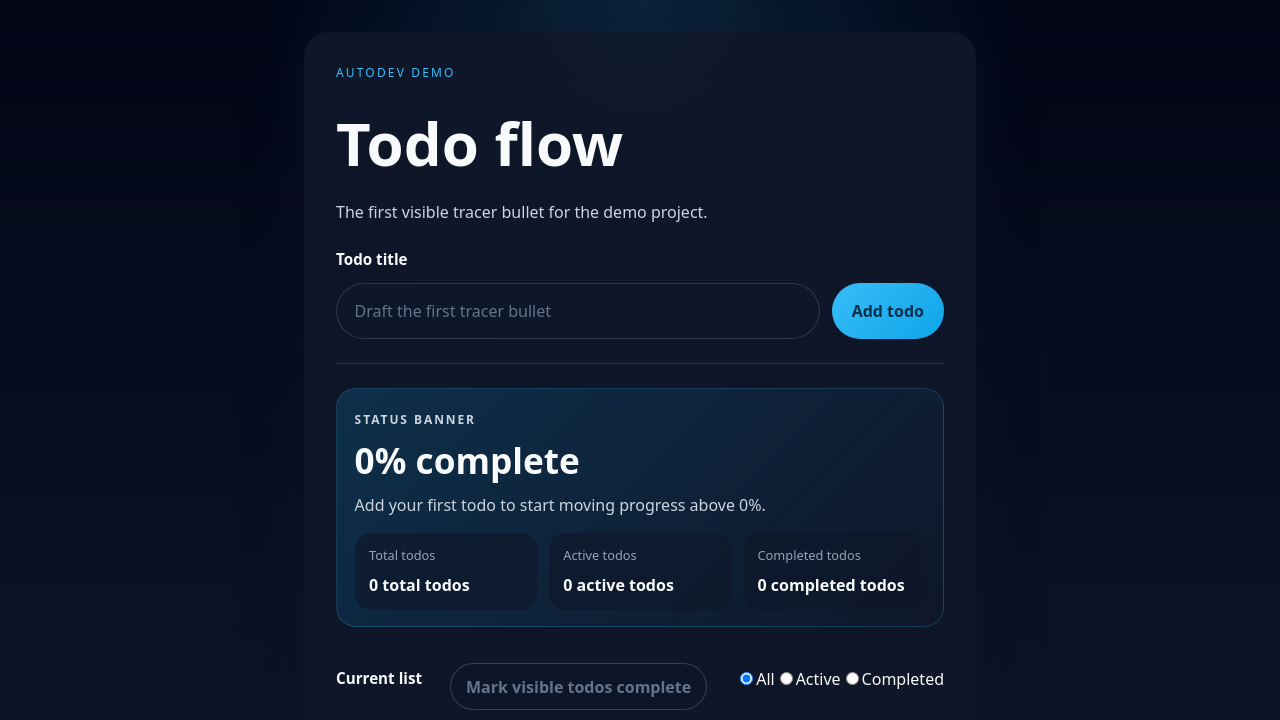
Test: Todo app shell › cancels edit mode without changing the todo title
The width and height of the screenshot is (1280, 720).
Type "Keep original title" into the field labelled "Todo title".
click(578, 311); type("Keep original title")  # box [336,283,820,339]
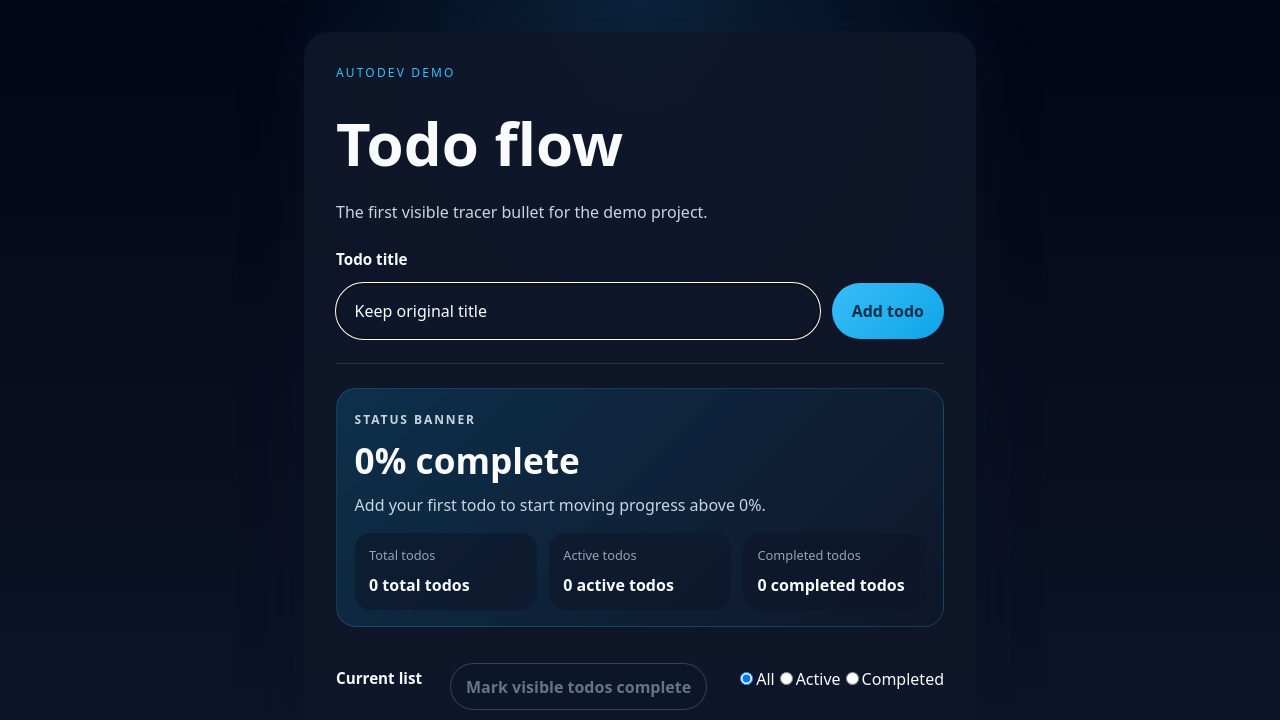
Click the button "Add todo".
click(888, 311)  # box [832,283,944,339]
(page scrolled)
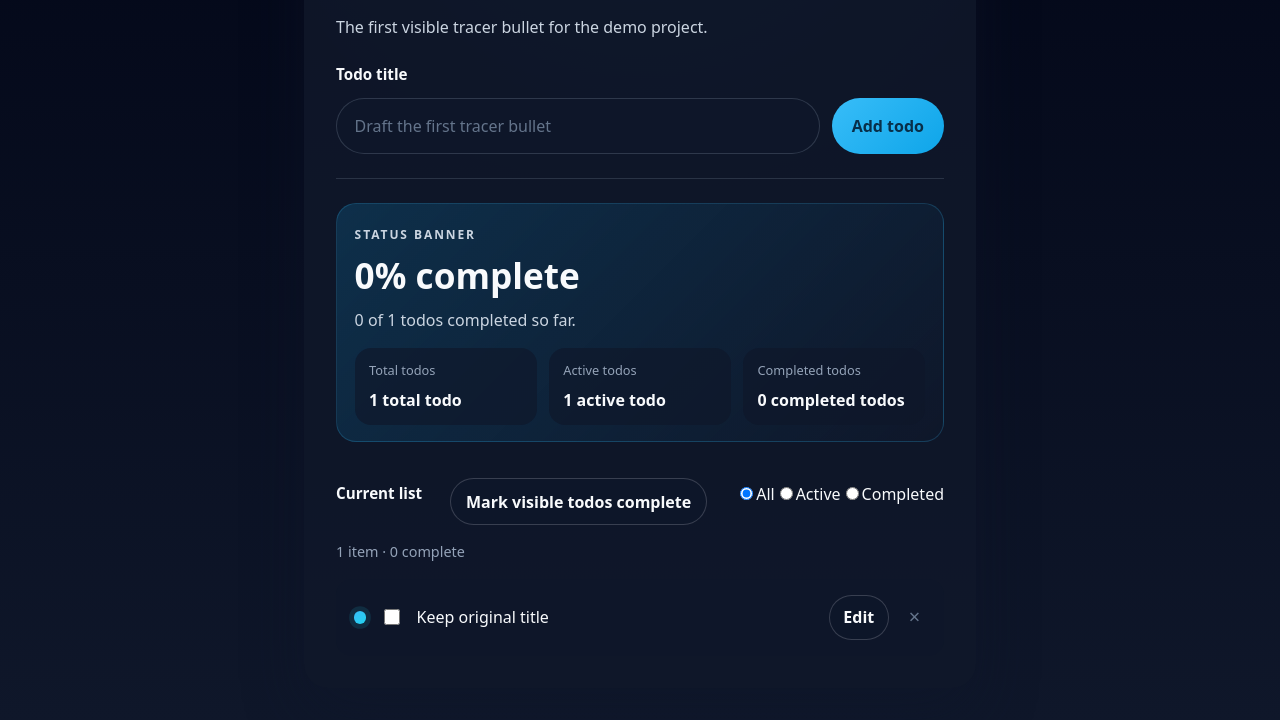
Click the button with aria-label "edit todo: keep original title".
click(859, 617)  # box [829,595,889,640]
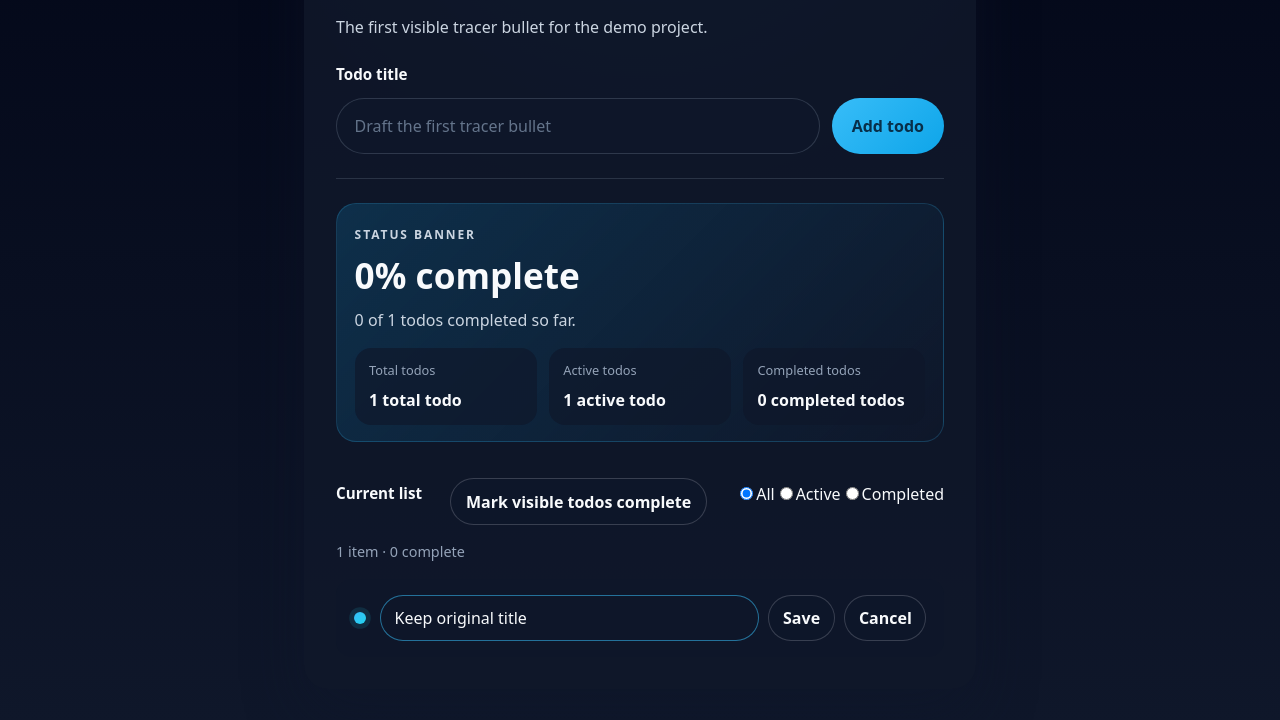
Replace the text in the field named "edit todo title for keep original title" with "Changed but cancelled" at [569, 618], box [380,595,759,642]
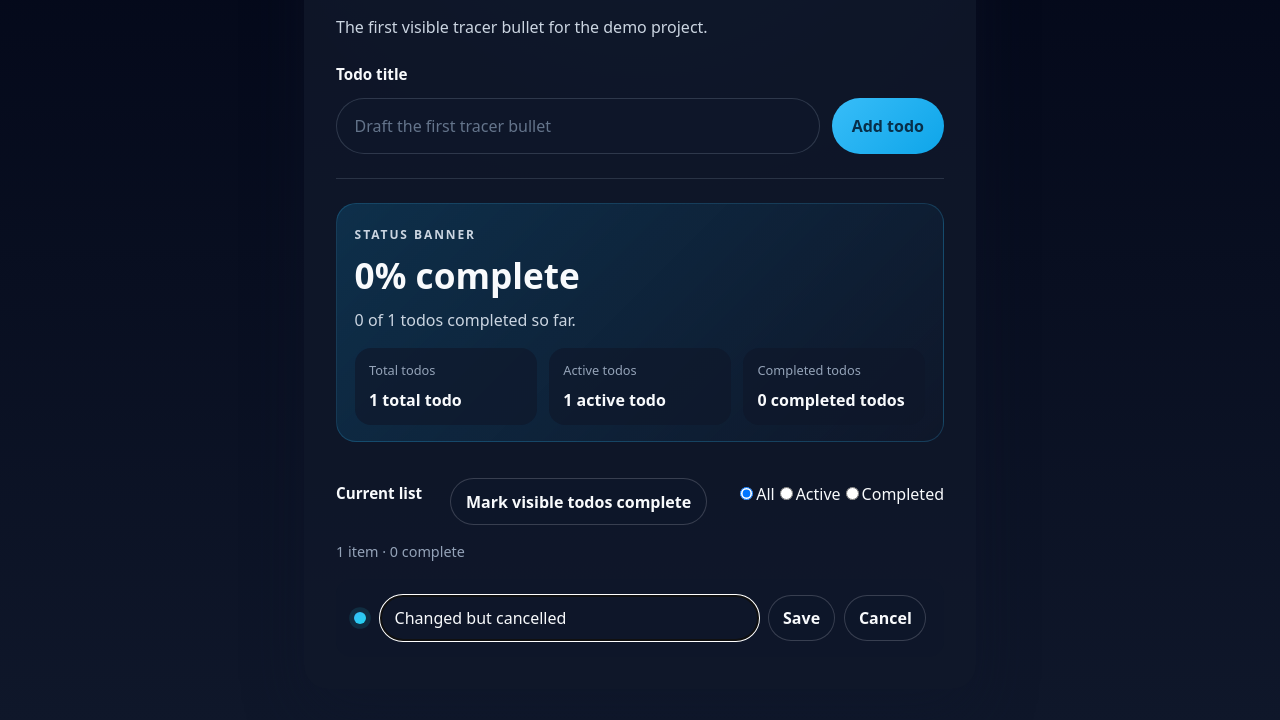
Click the button with aria-label "cancel edit for keep original title".
click(885, 618)  # box [844,595,926,642]
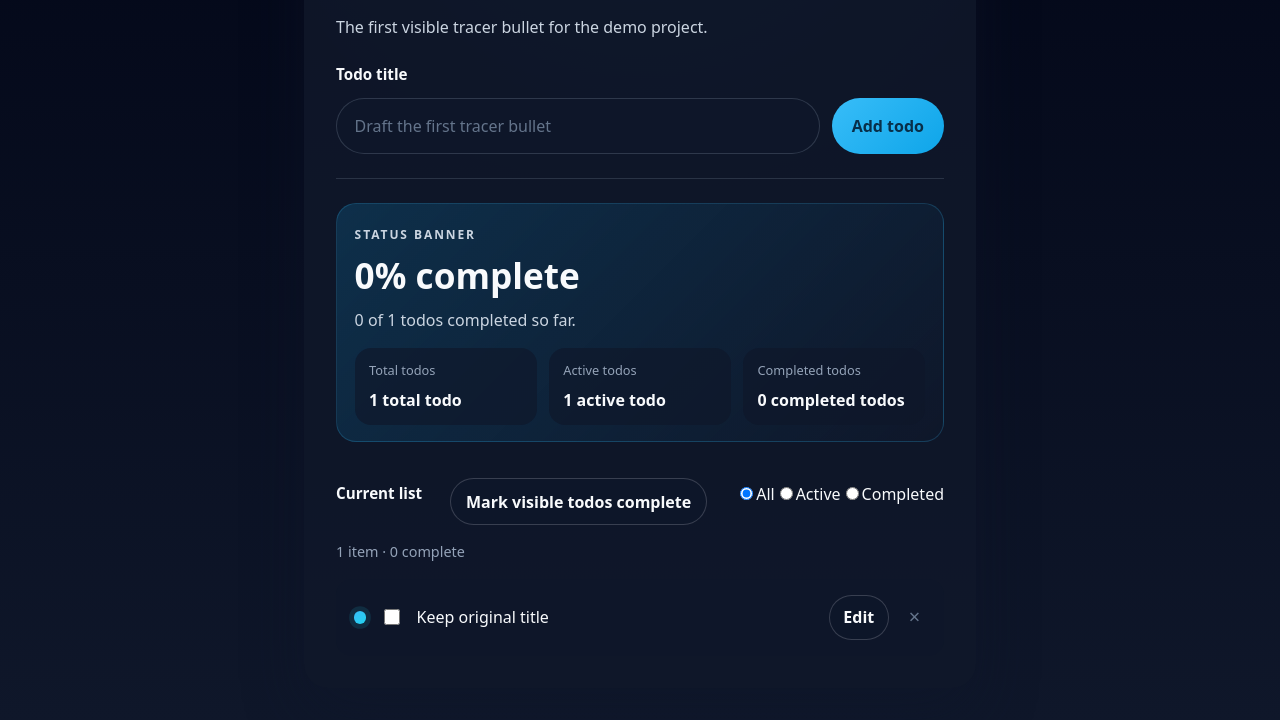
Expected: the text "Changed but cancelled" is not shown
Result: the text "Keep original title" is shown at [417,606,549,628]
